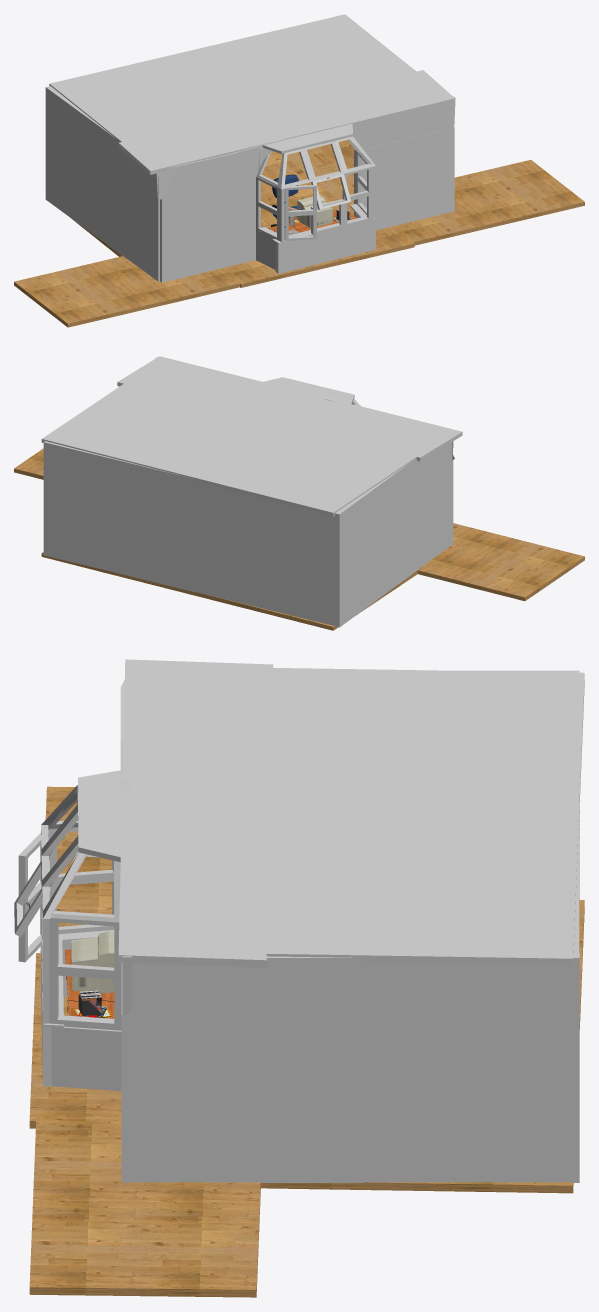
The picture shows the model from 3 angles, top to bottom: view 1: azimuth 30°, elevation 25°; view 2: azimuth 150°, elevation 25°; view 3: azimuth 270°, elevation 25°; orthographic projection. The views are drawn at different scales.
Parts seen in each view (by area): view 1: floor.005, floor.001, Cube.031, Cube.024, Cube.035, Cube.017, hinge, crt, Cube.019, Cube.028, Cube.027, Cube.006 (+3 smaller); view 2: floor.005, Cube.041, Cube.031, floor.001, hinge, Cube.029; view 3: floor.005, Cube.038, floor.001, Cube.018, hinge, Cube.021, crt, Cube.010, Cube.009, Cube.020, Cube.005, Cube.025 (+2 smaller).
Part boxes in pixels (bbox=[...]): floor.005: bbox=[49, 14, 455, 174]; floor.001: bbox=[14, 140, 584, 327]; Cube.031: bbox=[45, 86, 159, 281]; Cube.024: bbox=[156, 136, 288, 282]; Cube.035: bbox=[348, 96, 455, 230]; Cube.017: bbox=[275, 220, 375, 273]; hinge: bbox=[262, 123, 352, 153]; crt: bbox=[297, 195, 332, 228]; Cube.019: bbox=[256, 231, 275, 269]; Cube.028: bbox=[280, 148, 312, 189]; Cube.027: bbox=[303, 141, 344, 181]; Cube.006: bbox=[284, 185, 316, 214]; floor.005: bbox=[41, 356, 462, 516]; Cube.041: bbox=[48, 443, 334, 625]; Cube.031: bbox=[334, 442, 452, 627]; floor.001: bbox=[14, 448, 584, 630]; hinge: bbox=[264, 377, 354, 403]; Cube.029: bbox=[43, 441, 48, 556]; floor.005: bbox=[118, 659, 584, 967]; Cube.038: bbox=[129, 958, 579, 1182]; floor.001: bbox=[29, 786, 584, 1297]; Cube.018: bbox=[51, 1026, 121, 1091]; hinge: bbox=[78, 770, 122, 862]; Cube.021: bbox=[121, 963, 133, 1182]; crt: bbox=[71, 931, 114, 992]; Cube.010: bbox=[49, 970, 121, 1028]; Cube.009: bbox=[49, 918, 121, 975]; Cube.020: bbox=[42, 836, 85, 918]; Cube.005: bbox=[14, 860, 50, 936]; Cube.025: bbox=[50, 851, 120, 922].
Bounding box in the file's own units: 10.53 × 2.93 × 5.05.
39 materials, 29 textured.
